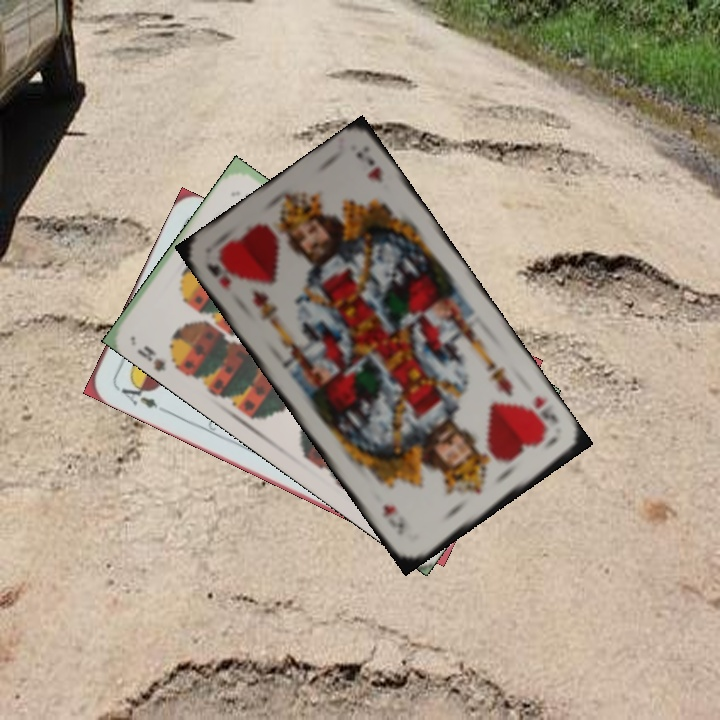EA: (112, 376, 161, 411)
HK: (525, 392, 561, 439), (202, 259, 234, 294)
S9: (132, 341, 186, 374)
